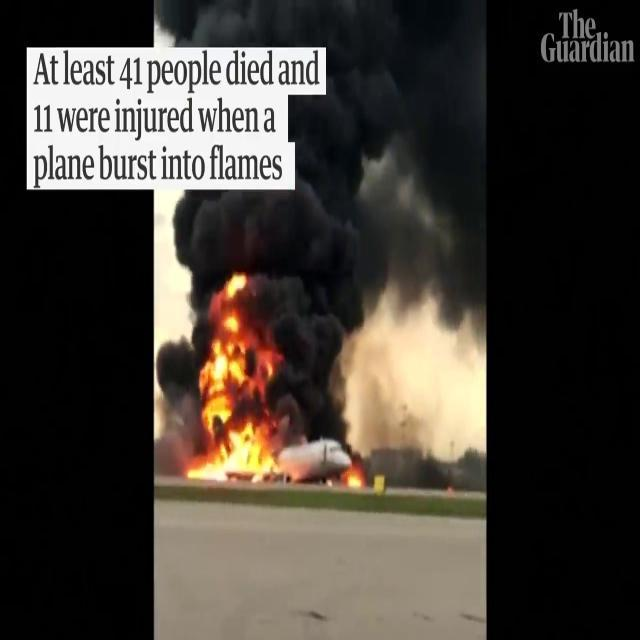Fire: (190, 276, 286, 486)
Smoke: (169, 0, 486, 406)
